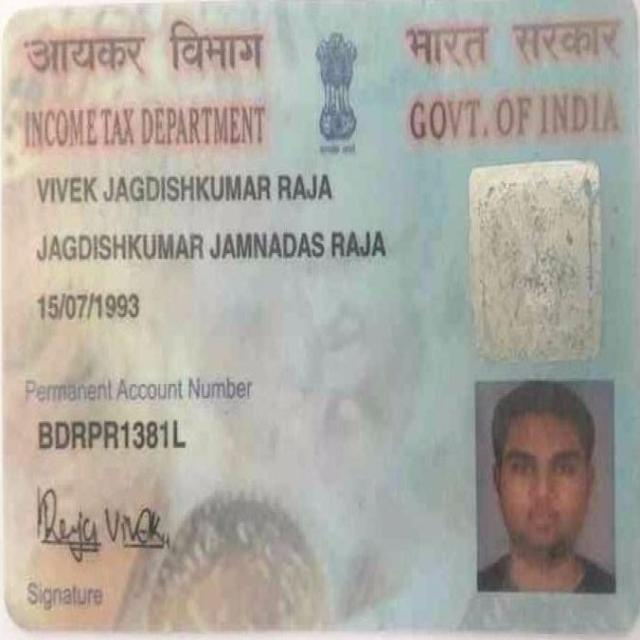pan_card: (8, 5, 637, 628)
